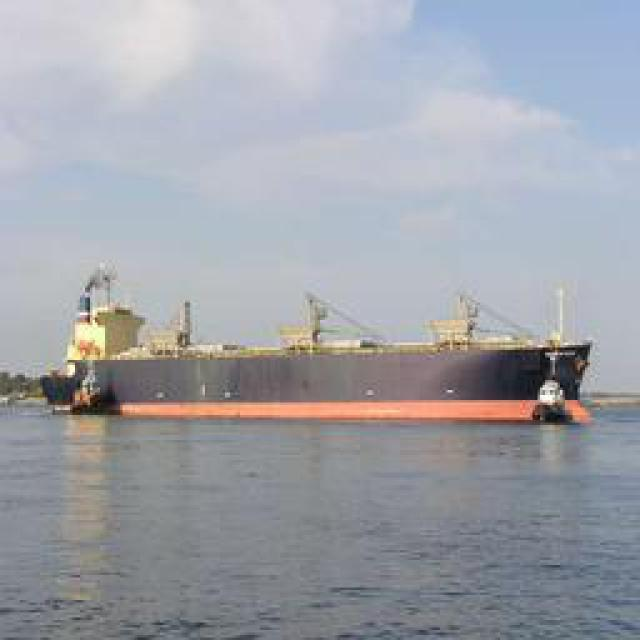Ship: (34, 304, 589, 414)
